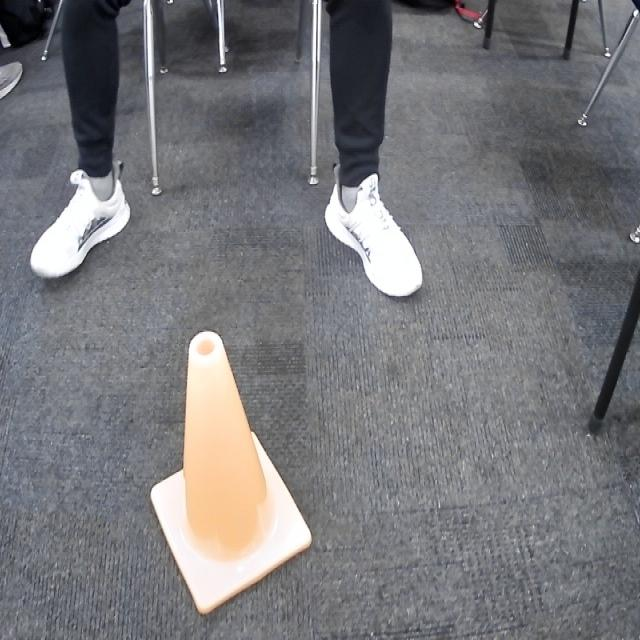cone: (150, 330, 312, 616)
